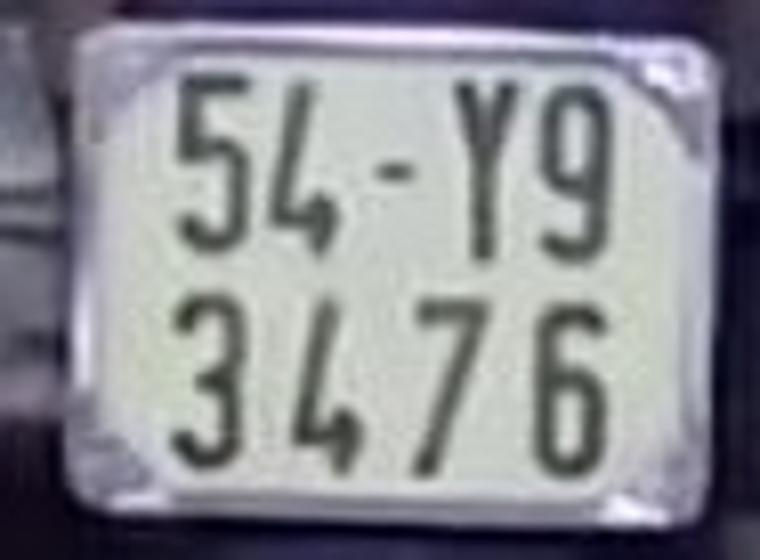-: (371, 151, 427, 194)
3: (160, 283, 245, 475)
4: (287, 295, 365, 481), (266, 70, 339, 255)
5: (169, 72, 256, 249)
6: (527, 299, 610, 474)
7: (407, 293, 492, 474)
9: (531, 81, 617, 270)
Y: (451, 71, 521, 266)
